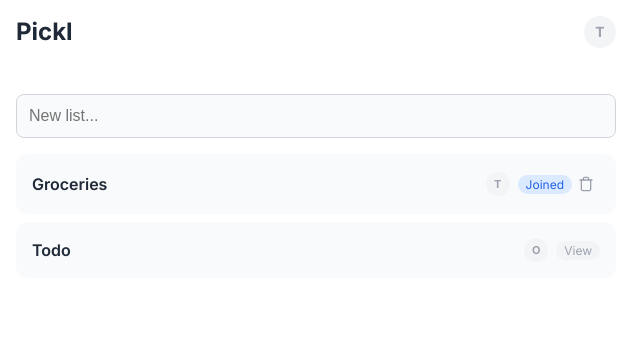
Scenario: ListsPage › creates a new list via input bar
Expected: the text "Groceries" is shown, [32,174,107,194]
Type "Shopping" into the field with placeholder "New list..." at coordinates (316, 116), box [16,94,616,138]
Then press Enter
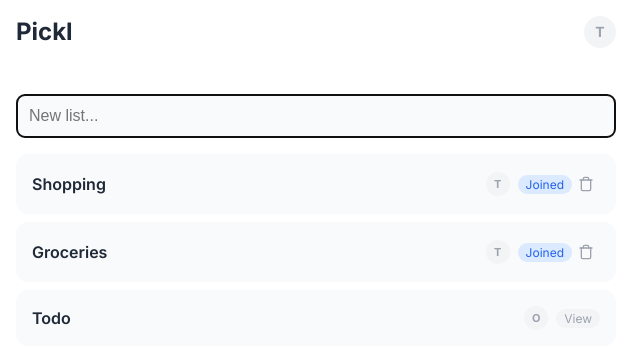
Now the text "Shopping" is shown, box [32,174,106,194]
